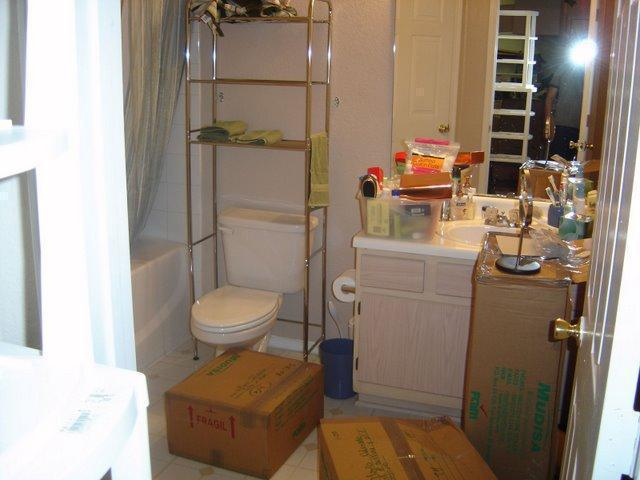Otro Obstaculo: (468, 232, 553, 473), (163, 362, 327, 466), (321, 407, 498, 479)
Sanitario: (183, 218, 319, 354)
